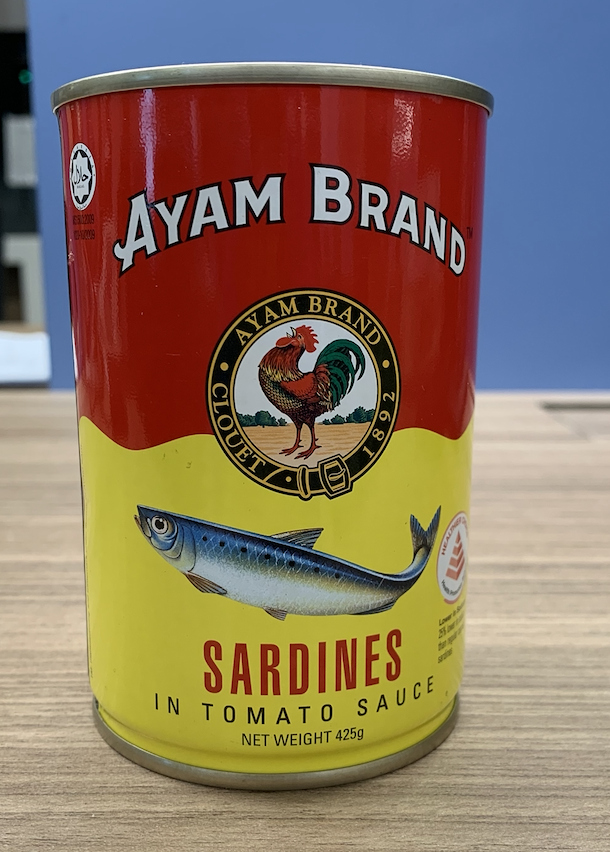halal: (70, 151, 93, 198)
